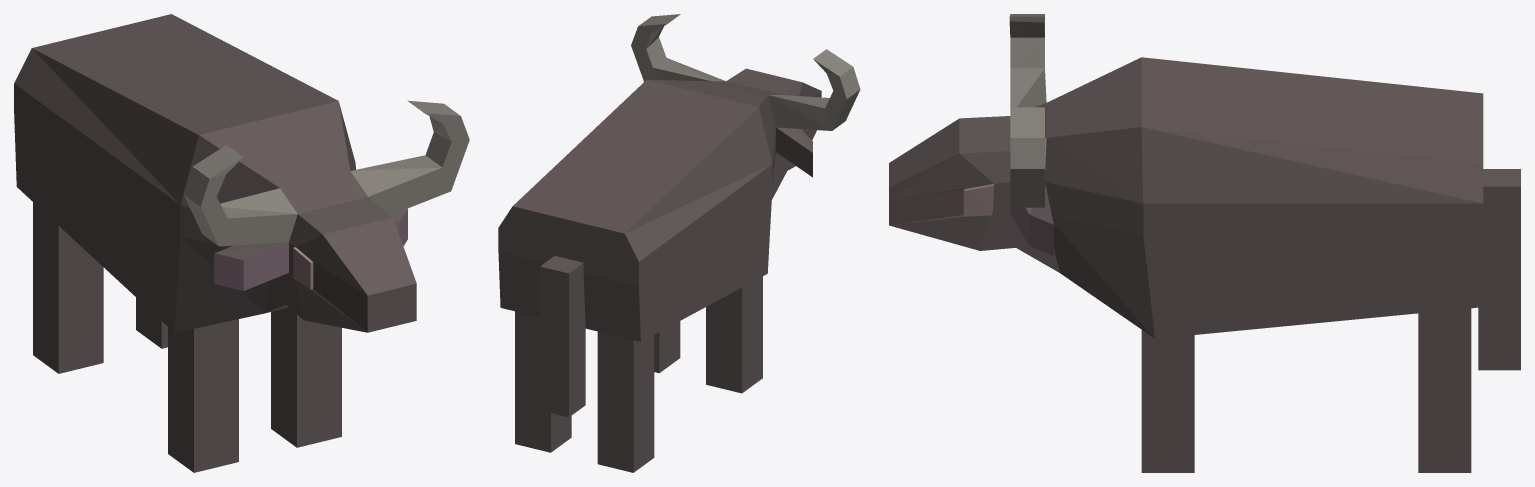
Rendered from Bull.fbx.
The picture shows the model from 3 angles, left to right: view 1: azimuth 30°, elevation 25°; view 2: azimuth 150°, elevation 25°; view 3: azimuth 270°, elevation 25°; orthographic projection. The views are drawn at different scales.
Parts seen in each view (by area): view 1: bull; view 2: bull; view 3: bull.
Part boxes in pixels (x1,y1,x2,y2): bull: [14, 14, 469, 472]; bull: [498, 14, 860, 472]; bull: [889, 14, 1520, 472].
Size of the model in its own units: 7.49 by 9.75 by 14.89.
